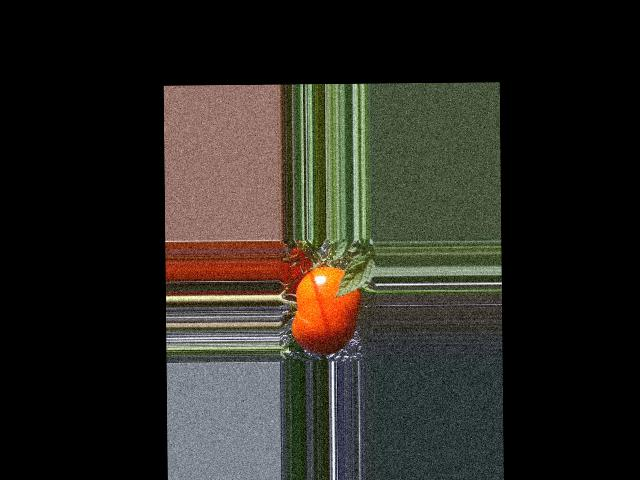tomato: (291, 266, 361, 355)
